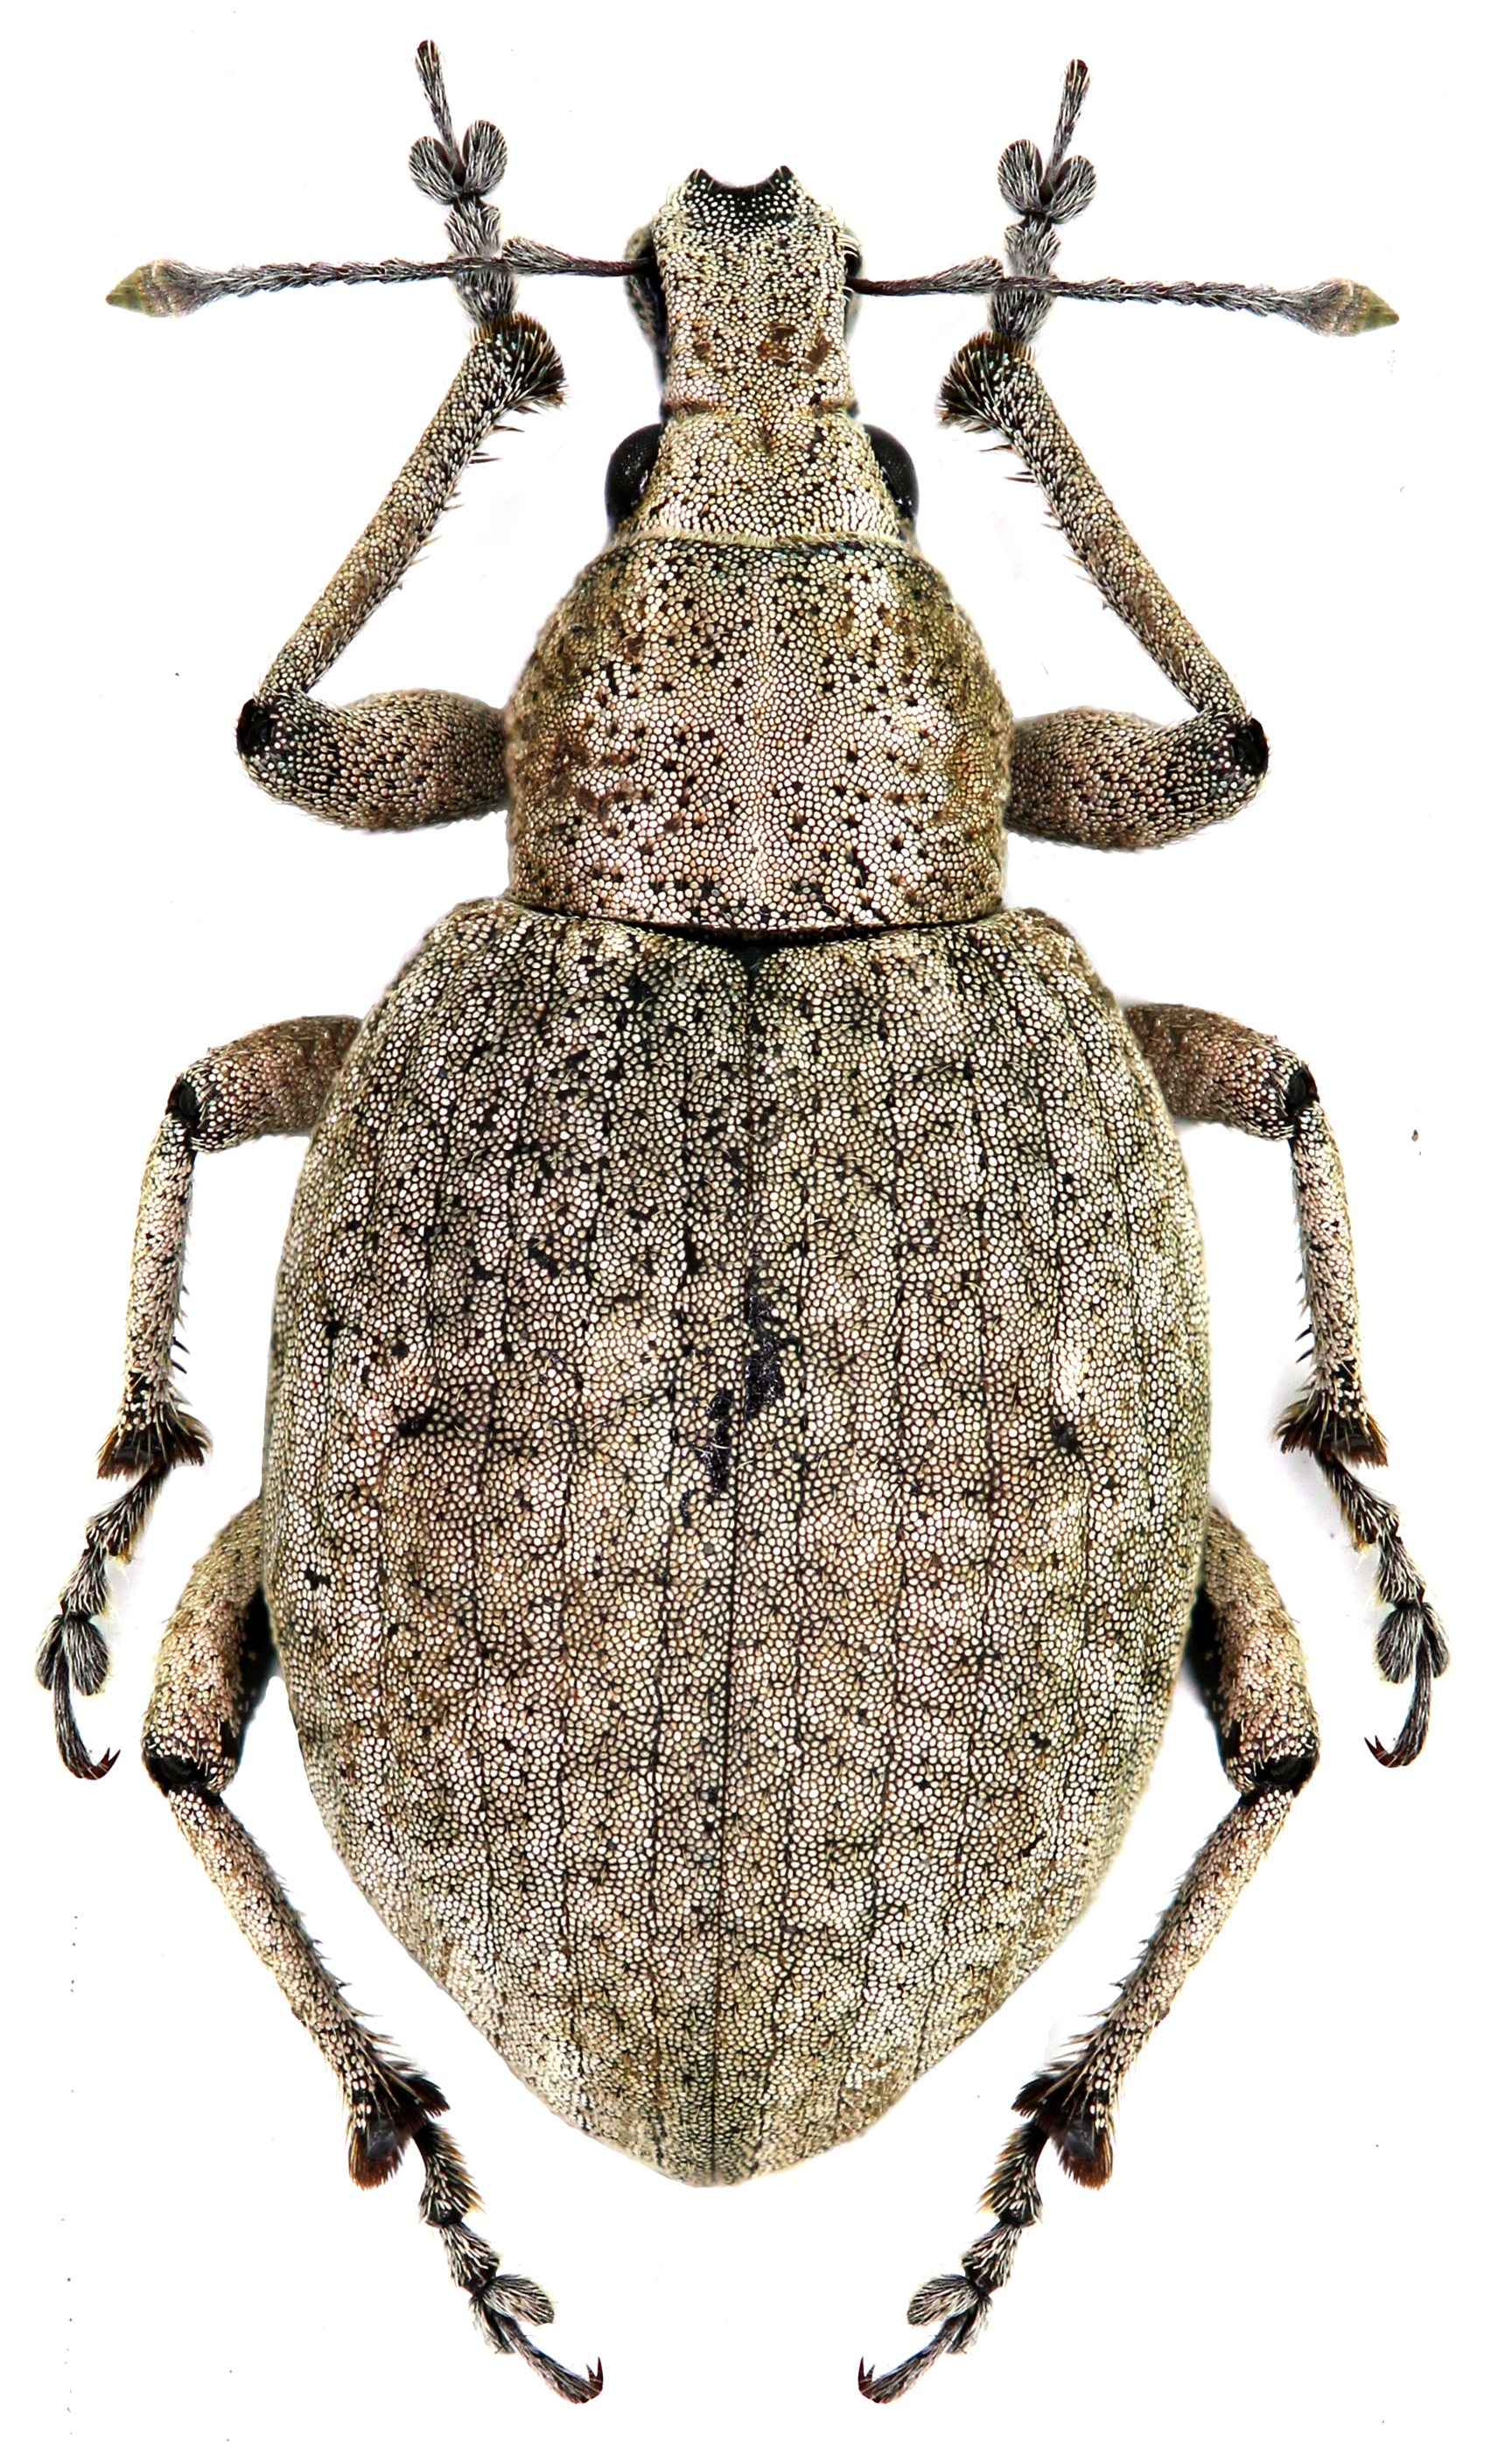dolgonosik: (51, 33, 1454, 2407)
